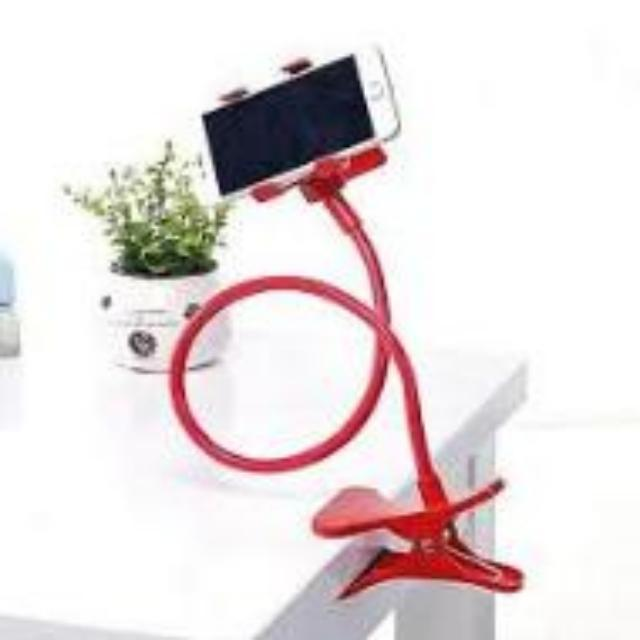phone: (195, 57, 389, 199)
